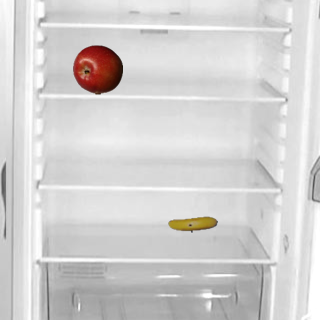Apple Braeburn: (72, 44, 122, 94)
Banana: (167, 199, 217, 249)
